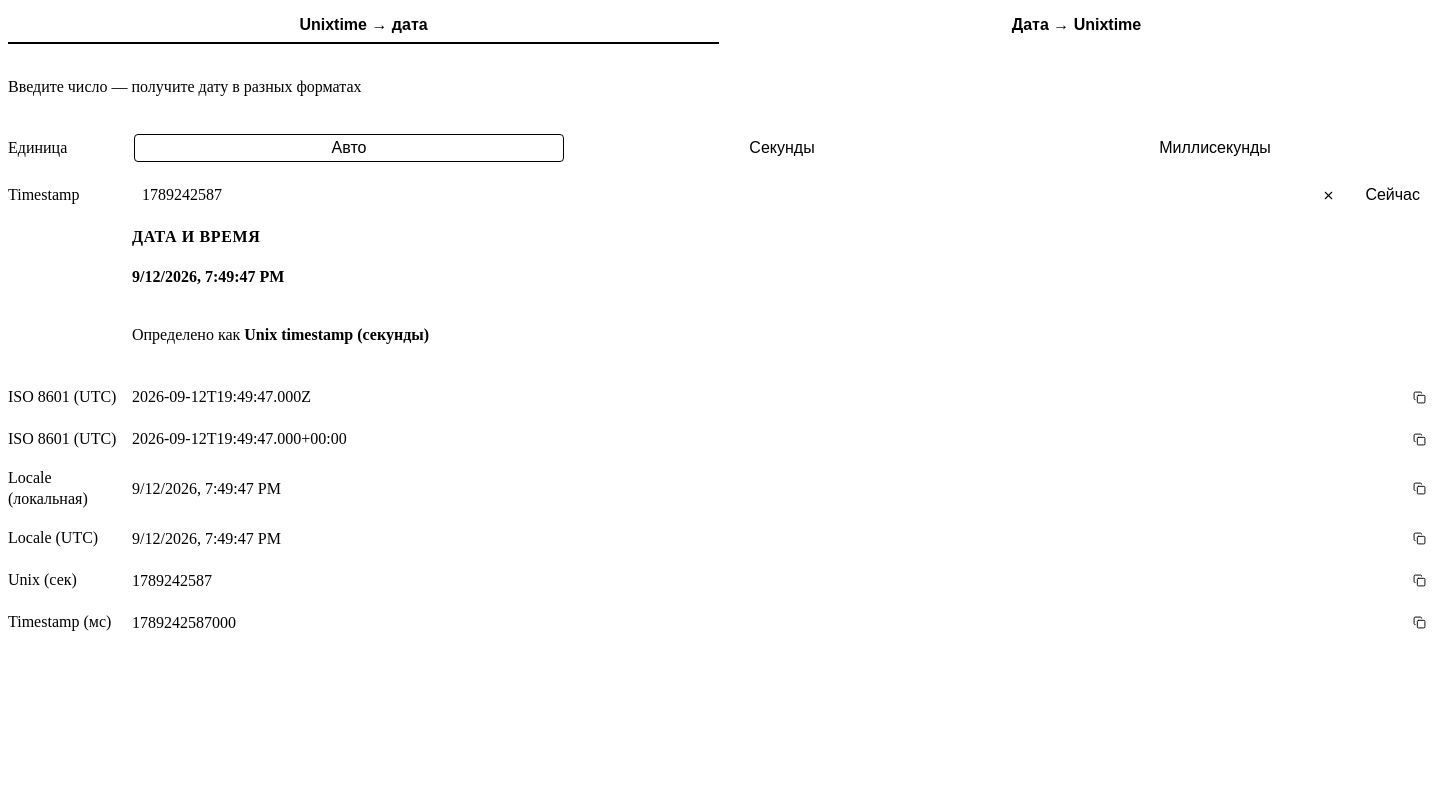
UnixtimeConverter › мусорный ввод показывает ошибку вместо строк результата
Replace the text in the field named "Unix-время" with "вчера": (761, 195) [132, 178, 1389, 212]
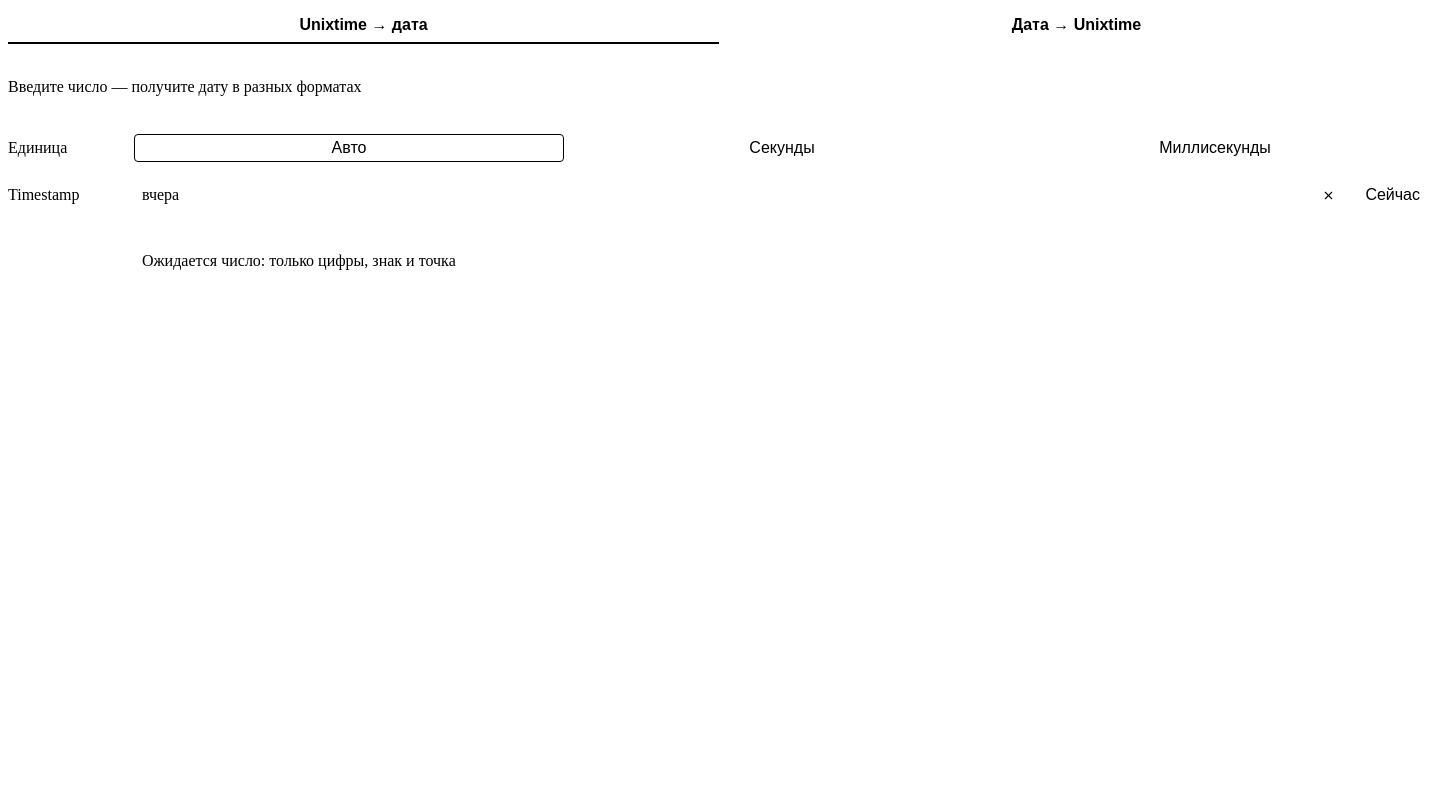
Result: the message with class "unix-error" reads "Ожидается число: только цифры, знак и точка" at [142, 252, 456, 269]
Result: no elements with class "unix-row" are shown
